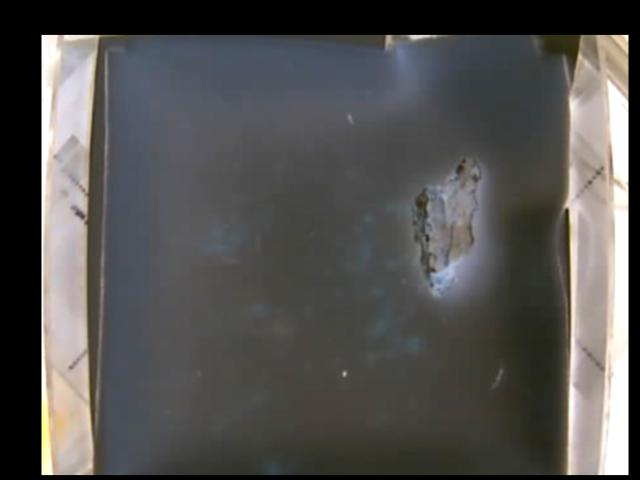Brisk: (414, 158, 481, 297)
